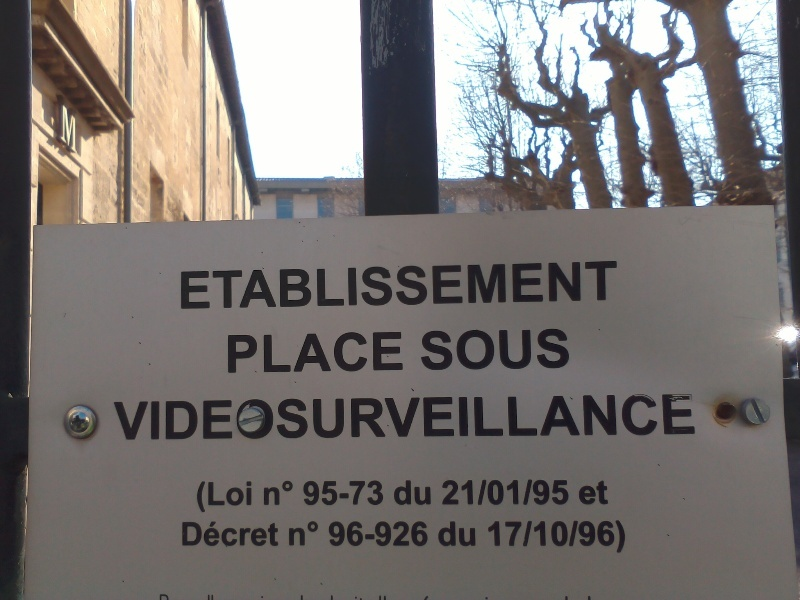text: (65, 91, 81, 158), (193, 258, 208, 312), (209, 258, 224, 312), (225, 258, 240, 312), (241, 258, 256, 312), (257, 258, 272, 312), (273, 258, 288, 312), (289, 258, 304, 312), (305, 258, 320, 312), (321, 258, 336, 312), (337, 258, 352, 312), (353, 258, 368, 312), (369, 258, 384, 312), (385, 258, 400, 312), (401, 258, 416, 312), (417, 258, 432, 312), (433, 258, 448, 312), (449, 258, 464, 312), (465, 258, 480, 312), (481, 258, 496, 312), (497, 258, 512, 312), (513, 258, 528, 312), (529, 258, 544, 312), (545, 258, 560, 312), (561, 258, 576, 312), (577, 258, 592, 312), (593, 258, 608, 312), (113, 391, 128, 444), (129, 391, 144, 444), (145, 391, 160, 444), (161, 391, 176, 444), (177, 391, 192, 444), (193, 391, 208, 444), (209, 391, 224, 444), (225, 391, 240, 444), (241, 391, 256, 444), (257, 391, 272, 444), (273, 391, 288, 444), (289, 391, 304, 444), (305, 391, 320, 444), (321, 391, 336, 444), (337, 391, 352, 444), (353, 391, 368, 444), (369, 391, 384, 444), (385, 391, 400, 444), (401, 391, 416, 444), (417, 391, 432, 444), (433, 391, 448, 444), (449, 391, 464, 444), (465, 391, 480, 444), (481, 391, 496, 444), (497, 391, 512, 444), (513, 391, 528, 444), (529, 391, 544, 444), (545, 391, 560, 444), (561, 391, 576, 444), (577, 391, 592, 444), (593, 391, 608, 444), (609, 391, 624, 444), (625, 391, 640, 444), (641, 391, 656, 444), (657, 391, 672, 444), (673, 391, 688, 444), (178, 258, 192, 312), (241, 328, 256, 375), (257, 328, 272, 375), (273, 328, 288, 375), (289, 328, 304, 375), (305, 328, 320, 375), (321, 328, 336, 375), (337, 328, 352, 375), (353, 328, 368, 375), (369, 328, 384, 375), (385, 328, 400, 375), (433, 327, 448, 373), (449, 327, 464, 373), (465, 327, 480, 373), (481, 327, 496, 373), (497, 327, 512, 373), (513, 327, 528, 373), (529, 327, 544, 373), (545, 327, 560, 373), (609, 258, 621, 312), (418, 327, 432, 373), (241, 479, 257, 517), (497, 516, 512, 555), (513, 516, 528, 555), (529, 516, 544, 555), (545, 516, 560, 555), (561, 516, 576, 555), (577, 516, 592, 555), (593, 516, 608, 555), (609, 516, 624, 555), (689, 391, 700, 444), (193, 479, 208, 517), (209, 479, 224, 517), (225, 479, 240, 517), (228, 328, 240, 375), (56, 91, 64, 158), (193, 518, 208, 552), (209, 518, 224, 552), (225, 518, 240, 552), (241, 518, 256, 552), (257, 518, 272, 552), (337, 517, 352, 550), (353, 517, 368, 550), (369, 517, 384, 550), (385, 517, 400, 550), (401, 517, 416, 550), (273, 476, 288, 508), (289, 517, 304, 549), (305, 517, 320, 549), (449, 476, 464, 508), (465, 476, 480, 508), (481, 476, 496, 508), (497, 476, 512, 508), (513, 476, 528, 508), (529, 476, 544, 508), (545, 476, 560, 508), (178, 518, 192, 552), (417, 517, 431, 550), (561, 327, 571, 373), (449, 517, 464, 547), (465, 517, 480, 547), (305, 477, 320, 507), (321, 477, 336, 507), (337, 477, 352, 507), (353, 477, 368, 507), (369, 477, 384, 507), (417, 479, 433, 507), (577, 478, 592, 507), (593, 478, 608, 507), (485, 516, 496, 555), (401, 479, 416, 507), (261, 476, 272, 508), (326, 517, 336, 550), (438, 476, 448, 508), (561, 476, 571, 508), (438, 517, 448, 547), (273, 518, 280, 552), (401, 328, 406, 375), (297, 477, 304, 507), (289, 476, 295, 508), (394, 479, 400, 507), (109, 391, 112, 444), (625, 516, 629, 555), (284, 517, 288, 549), (609, 478, 612, 507), (385, 477, 387, 507), (321, 517, 322, 549)
